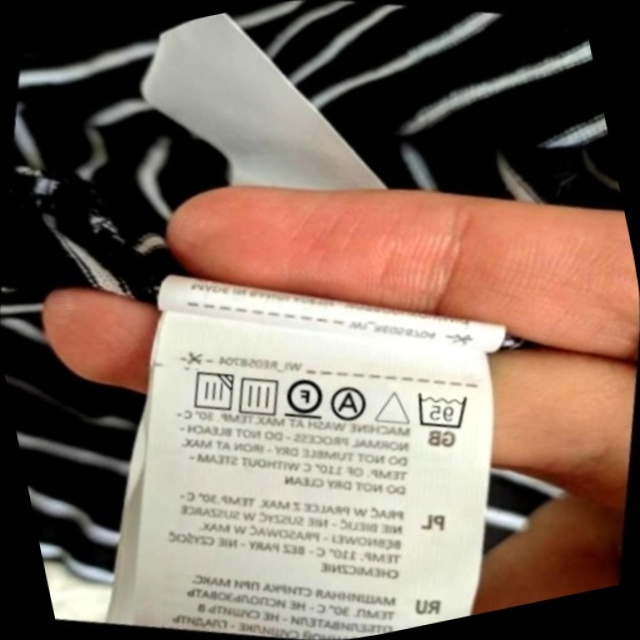95C: (402, 376, 480, 444)
bleach: (365, 376, 422, 437)
drip_dry: (225, 363, 292, 428)
drip_dry_in_shade: (177, 357, 246, 425)
dry_clean: (321, 375, 379, 432)
dry_clean_petrol_only: (272, 363, 336, 430)
